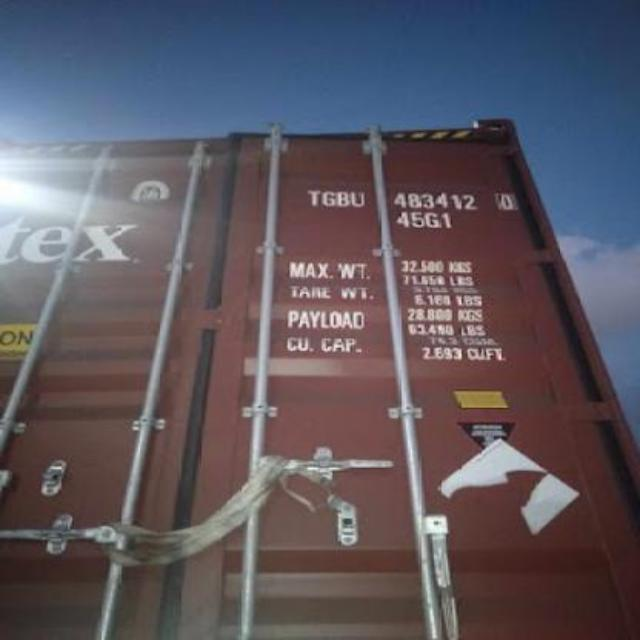0: (492, 185, 516, 212)
1: (450, 186, 460, 210)
2: (458, 182, 478, 212)
3: (421, 184, 434, 210)
4: (388, 182, 406, 210), (432, 182, 450, 210)
8: (406, 176, 419, 208)
B: (334, 182, 348, 210)
G: (318, 182, 336, 212)
T: (304, 180, 320, 210)
U: (351, 184, 364, 210)
